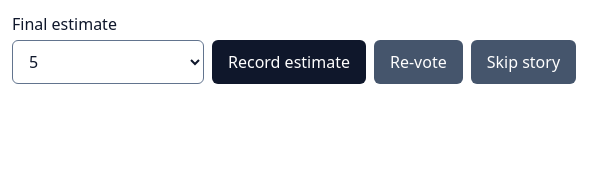
FacilitatorControls › shows the fixed message for WRONG_PHASE and re-enables the controls
Click the button "Skip story" at (523, 62), box [471,40,576,84]
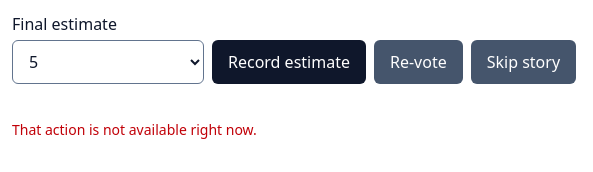
Now the message "That action is not available right now." is shown, box [12,120,257,139]
